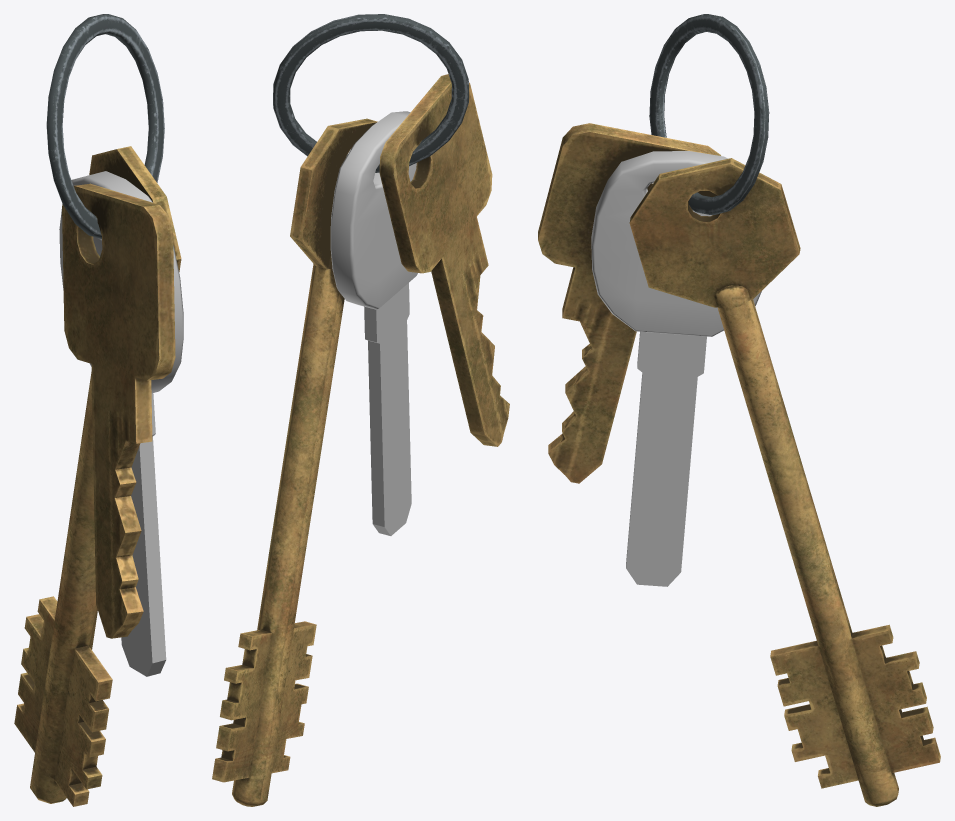
Rendered from KEY.fbx.
The picture shows the model from 3 angles, left to right: view 1: azimuth 30°, elevation 25°; view 2: azimuth 150°, elevation 25°; view 3: azimuth 270°, elevation 25°; orthographic projection. The views are drawn at different scales.
Visible parts, largest first — view 1: g, g.003, g.002, g.001; view 2: g.003, g, g.002, g.001; view 3: g.003, g.002, g, g.001.
Boxes of the visible parts, x1,y1,x2,y2 form: g: (62, 183, 175, 638); g.003: (14, 146, 181, 806); g.002: (59, 171, 183, 676); g.001: (46, 14, 164, 238); g.003: (212, 118, 377, 806); g: (379, 74, 509, 446); g.002: (330, 111, 417, 535); g.001: (273, 14, 468, 172); g.003: (629, 158, 940, 806); g.002: (591, 151, 761, 586); g: (538, 123, 720, 483); g.001: (649, 14, 769, 214).
Bounding box in the file's own units: 179 × 863 × 415.
